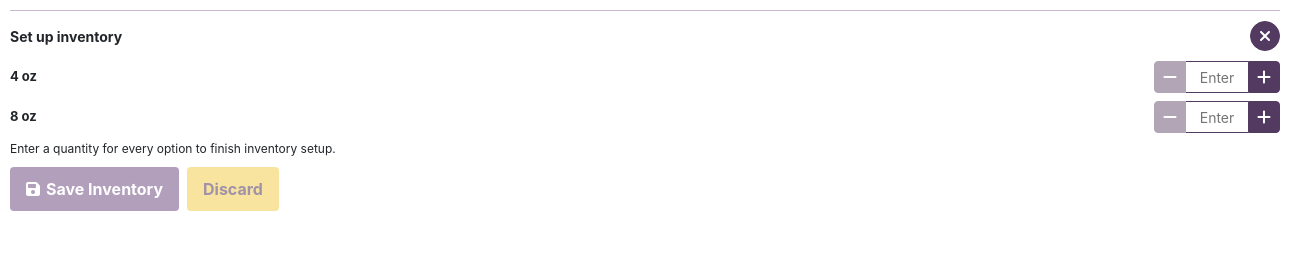
Scenario: admin preview product inventory editor › requires every option during first-time inventory setup
This screenshot has width=1292, height=264.
Check: the field named "8 oz Saffron Maple Syrup stock" is empty, box [1186,101,1248,133]
Check: the button "Save Inventory" is disabled, box [10,167,179,211]
Step 1. Type "4" into the field named "4 oz Saffron Maple Syrup stock" → [1217, 77], box [1186,61,1248,93]
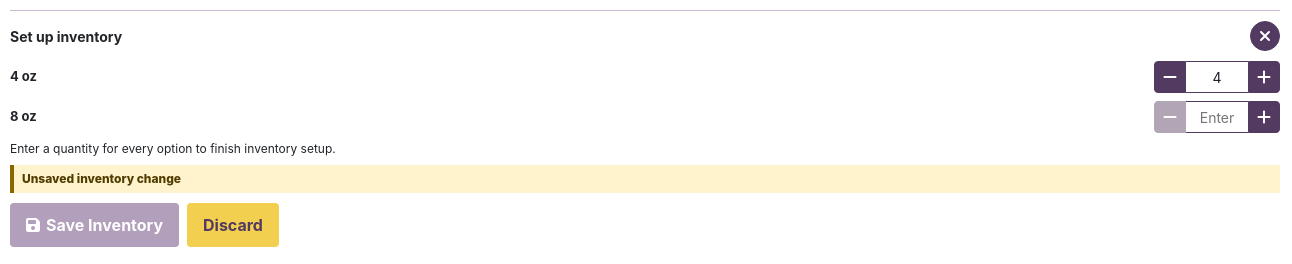
Check: the button "Save Inventory" is disabled, box [10,203,179,247]
Step 2. Type "0" into the field named "8 oz Saffron Maple Syrup stock" → [1217, 117], box [1186,101,1248,133]
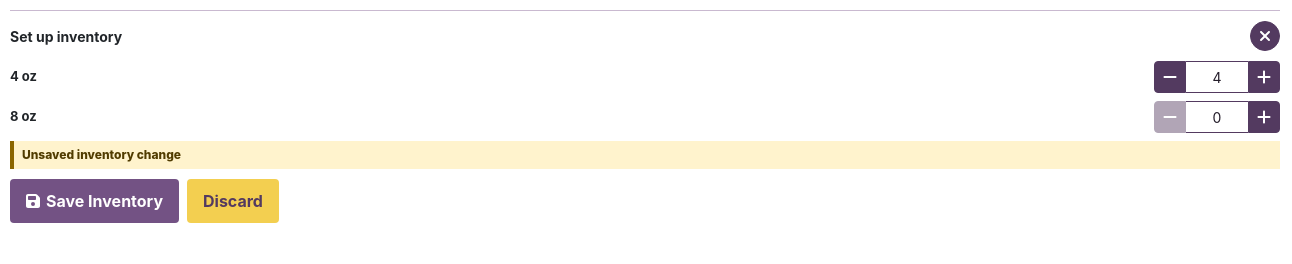
Check: the button "Save Inventory" is enabled, box [10,179,179,223]
